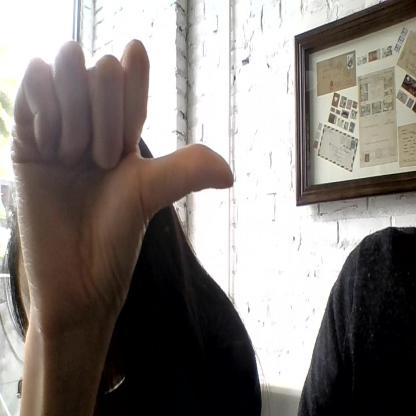left: (10, 40, 233, 308)
